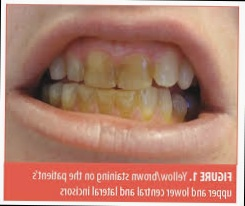Tooth Discoloration: (51, 47, 161, 124)
